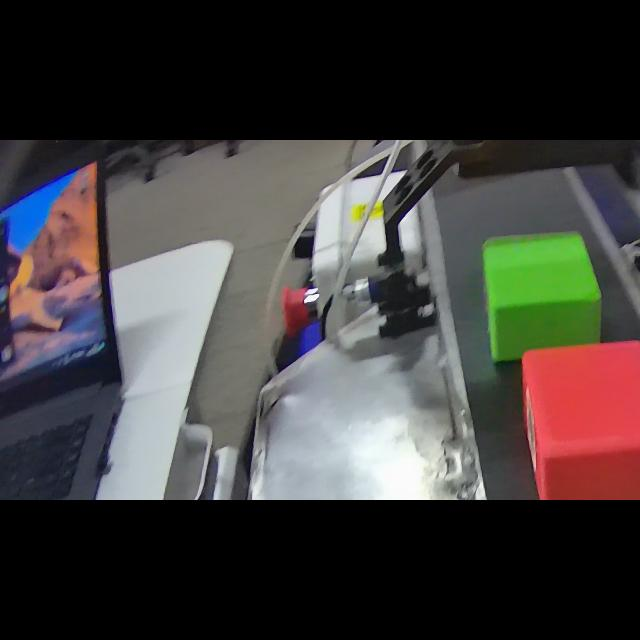greenBox: (476, 225, 608, 368)
redBox: (516, 336, 640, 499)
yellowBox: (534, 498, 640, 500)
